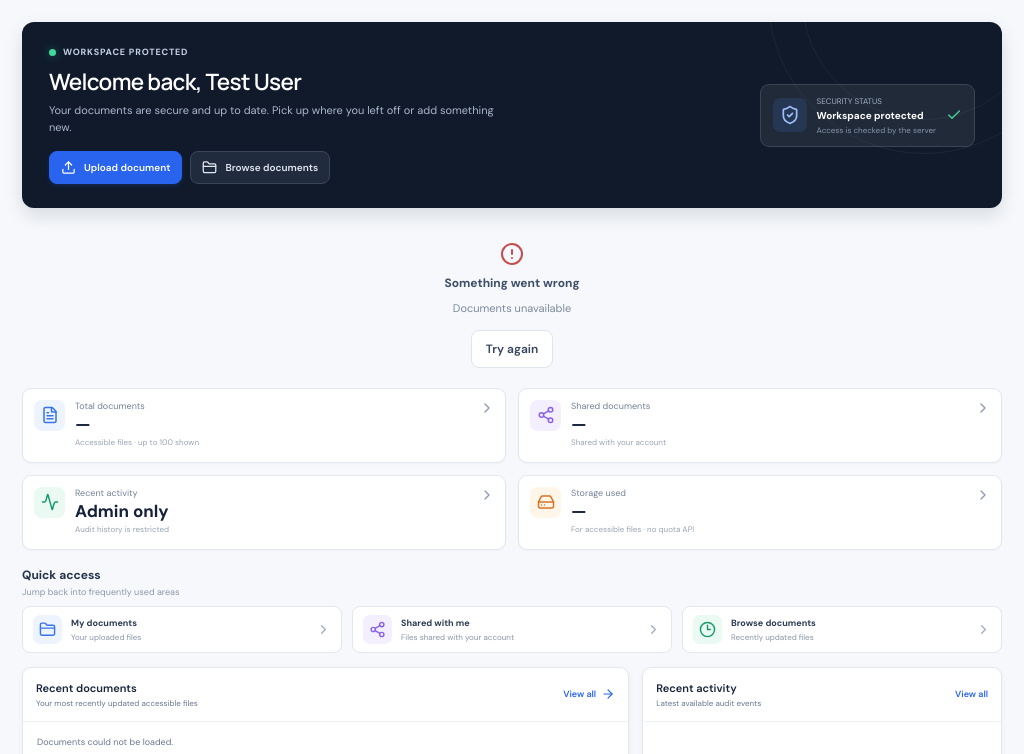
Test case: dashboard workspace overview › shows API errors and retries document loading
The width and height of the screenshot is (1024, 754).
Expected: the message shows "Documents unavailable", [453,301,571,315]
Step 1. Click the button "Try again" → (512, 349), box [471,330,553,368]
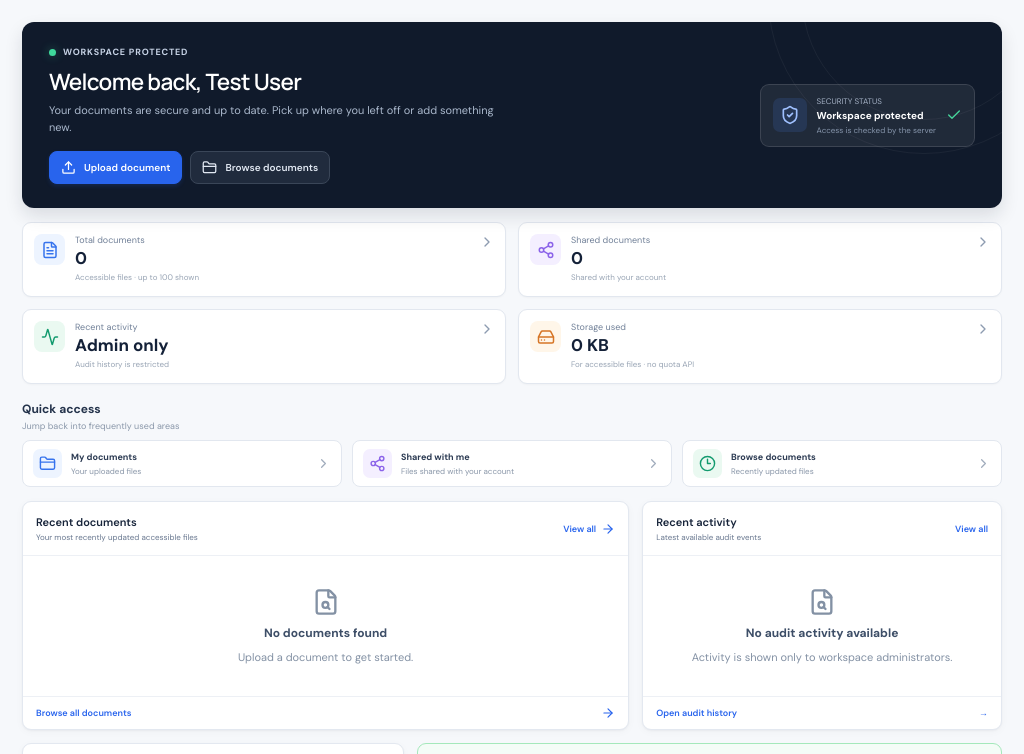
Now the text "Upload a document to get started." is shown, box [238,650,413,664]
